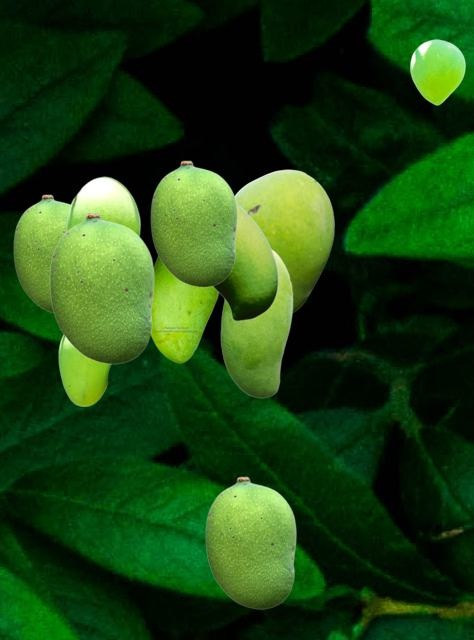green_mango: (49, 212, 153, 363), (235, 169, 333, 313), (205, 476, 295, 608), (150, 160, 236, 286), (220, 249, 292, 397), (212, 202, 277, 320), (151, 256, 219, 362), (13, 194, 69, 313), (66, 176, 139, 234), (58, 335, 111, 405), (410, 39, 464, 104)
